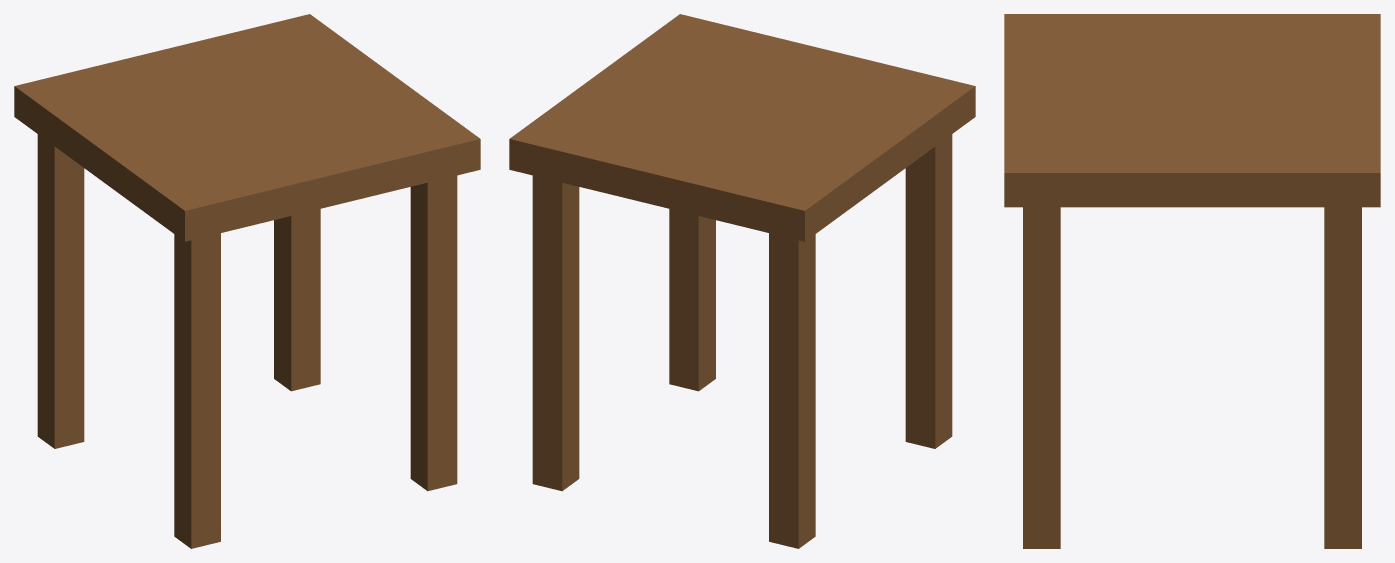
File: stool_cm.obj
3 renders of one model, left to right at view 1: azimuth 30°, elevation 25°; view 2: azimuth 150°, elevation 25°; view 3: azimuth 270°, elevation 25°, orthographic. The views are drawn at different scales.
Parts seen in each view (by area): view 1: Cube, Cube.003, Cube.001, Cube.002, Cube.004; view 2: Cube, Cube.004, Cube.002, Cube.001, Cube.003; view 3: Cube, Cube.003, Cube.004.
Part boxes in pixels (<box>): Cube: <box>14,14,480,241</box>; Cube.003: <box>410,175,457,491</box>; Cube.001: <box>174,233,220,548</box>; Cube.002: <box>37,134,84,448</box>; Cube.004: <box>274,209,320,391</box>; Cube: <box>509,14,975,241</box>; Cube.004: <box>532,175,579,491</box>; Cube.002: <box>769,233,815,548</box>; Cube.001: <box>905,134,952,448</box>; Cube.003: <box>669,209,715,391</box>; Cube: <box>1004,14,1380,207</box>; Cube.003: <box>1023,207,1060,548</box>; Cube.004: <box>1324,207,1361,548</box>.
Bounding box in the file's own units: 40 × 45 × 40.
